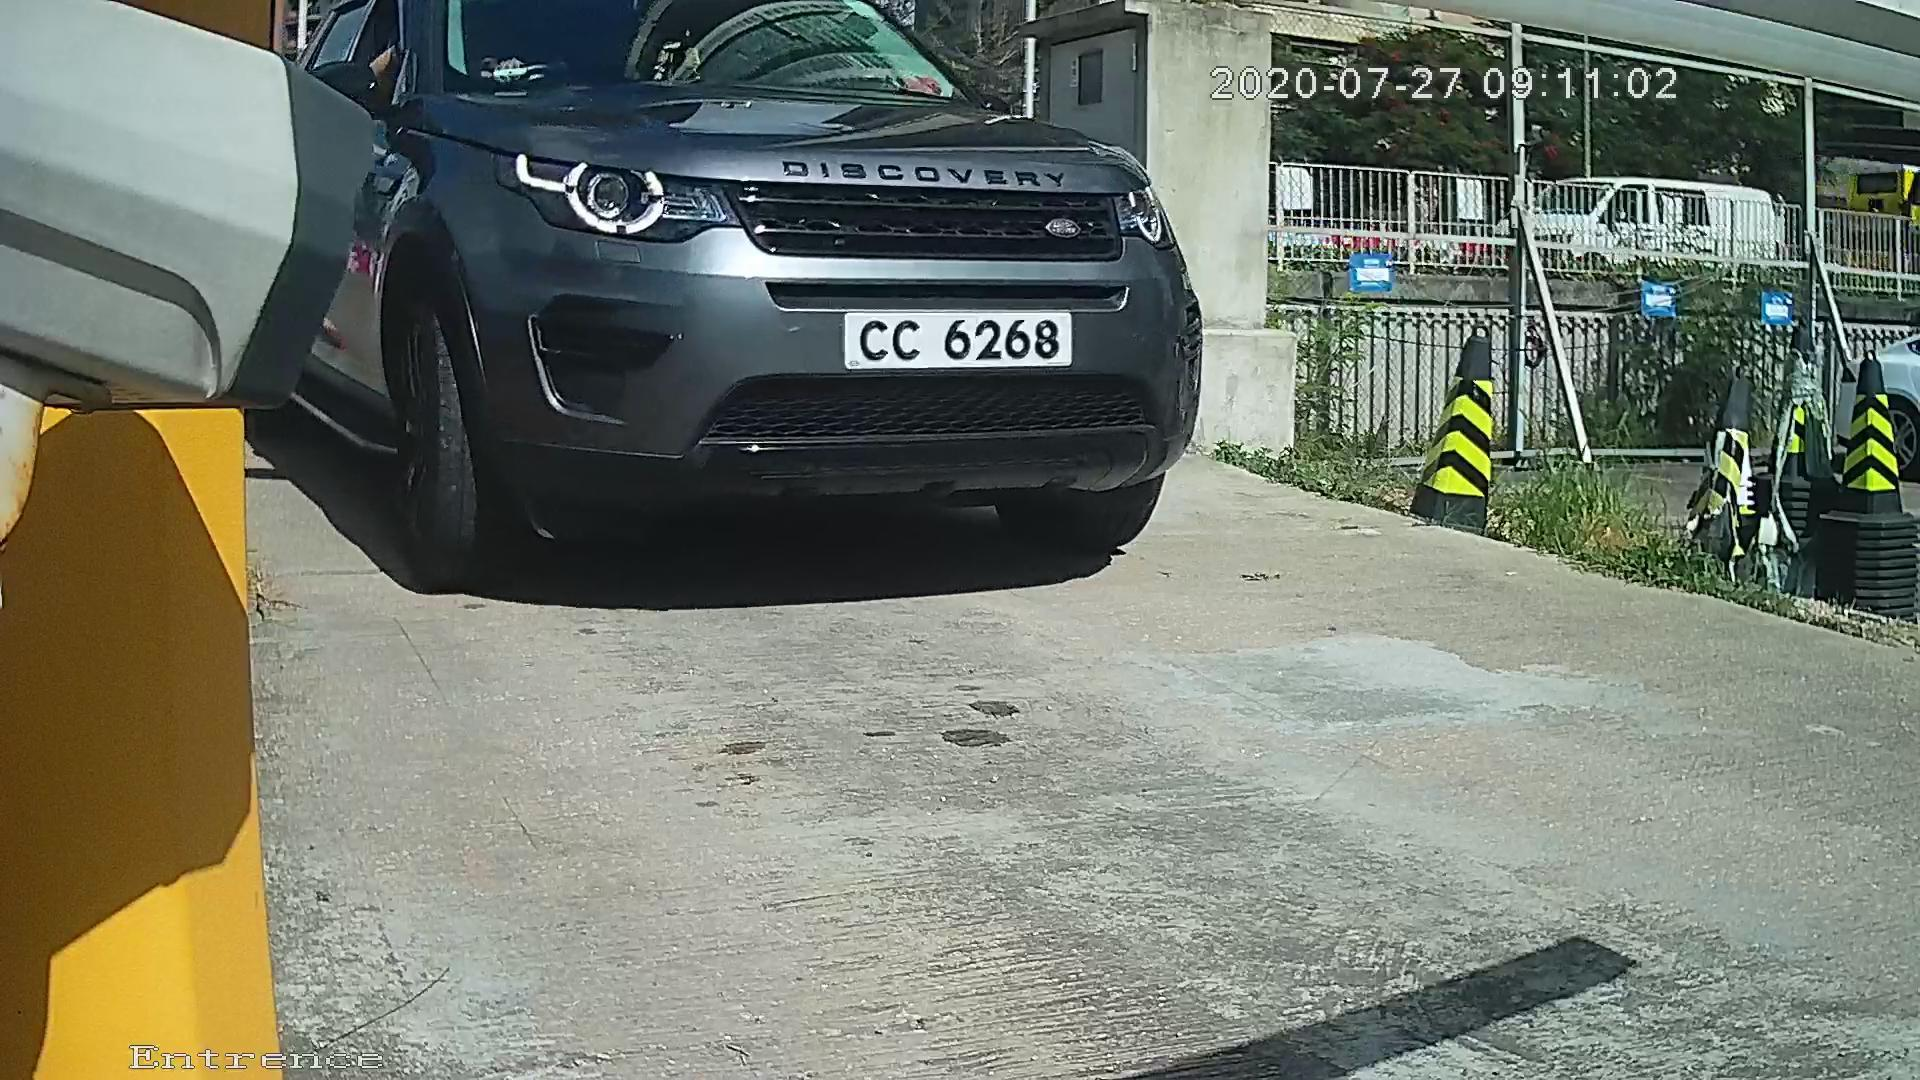Car: (95, 29, 1295, 622)
License Plate: (815, 285, 1089, 386)
